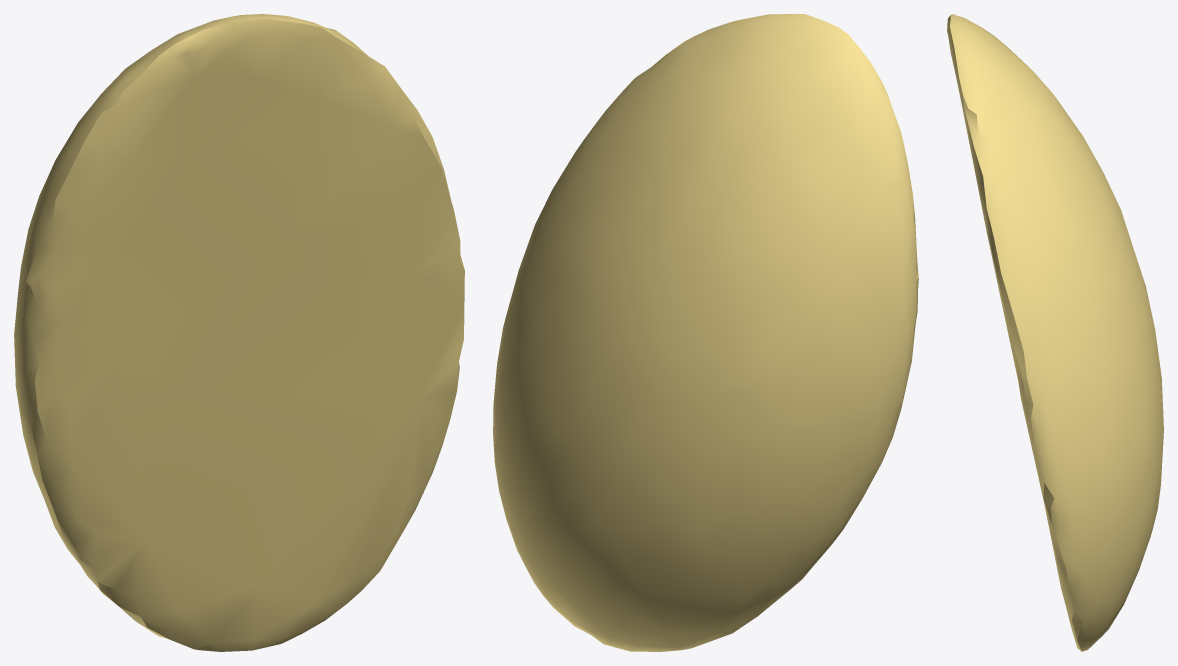
Rendered from fma54625_mm3506m.glb.
3 renders of one model, left to right at view 1: azimuth 30°, elevation 25°; view 2: azimuth 150°, elevation 25°; view 3: azimuth 270°, elevation 25°, orthographic. The views are drawn at different scales.
Visible parts, largest first — view 1: FMA54625_MM3506M; view 2: FMA54625_MM3506M; view 3: FMA54625_MM3506M.
Part boxes in pixels (x1,y1,x2,y2): FMA54625_MM3506M: (14, 14, 464, 651); FMA54625_MM3506M: (493, 14, 918, 651); FMA54625_MM3506M: (947, 14, 1163, 651).
Bounding box in the file's own units: 0.0025 × 0.00368 × 0.00128.
